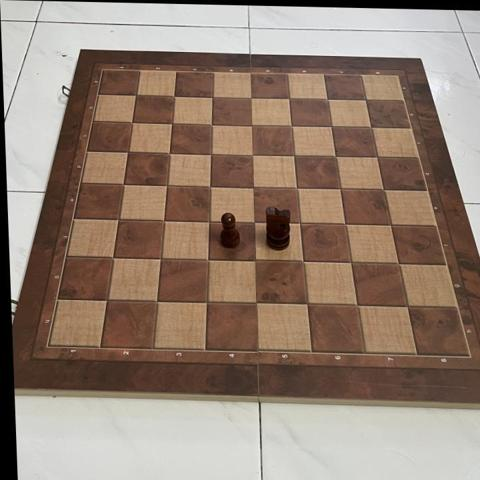xcorner: (281, 90, 299, 108), (128, 87, 146, 105), (363, 119, 381, 137), (323, 118, 341, 136), (283, 117, 301, 135), (124, 114, 142, 132), (327, 148, 345, 166), (244, 146, 262, 164), (375, 181, 393, 199), (288, 179, 306, 197), (294, 253, 312, 271), (246, 252, 264, 270), (199, 251, 217, 269), (297, 296, 315, 314), (98, 291, 116, 309), (319, 91, 337, 108), (243, 89, 260, 107), (166, 88, 184, 105), (243, 117, 261, 134), (164, 115, 181, 133), (286, 147, 303, 165), (203, 145, 220, 163), (161, 145, 179, 162), (120, 144, 138, 161), (332, 180, 349, 198), (158, 177, 176, 194), (115, 176, 133, 193), (382, 217, 400, 234), (336, 216, 354, 233), (200, 213, 218, 230), (155, 212, 173, 229), (110, 211, 128, 228), (152, 250, 169, 268), (104, 249, 122, 266), (348, 297, 365, 315), (247, 295, 265, 312), (148, 292, 165, 310), (358, 92, 375, 109), (205, 89, 222, 106), (204, 116, 221, 133), (369, 149, 386, 166), (245, 179, 262, 196), (202, 178, 219, 195), (291, 215, 308, 232), (246, 214, 263, 231), (390, 256, 407, 273), (342, 255, 359, 272), (398, 299, 415, 316), (198, 294, 215, 311)
